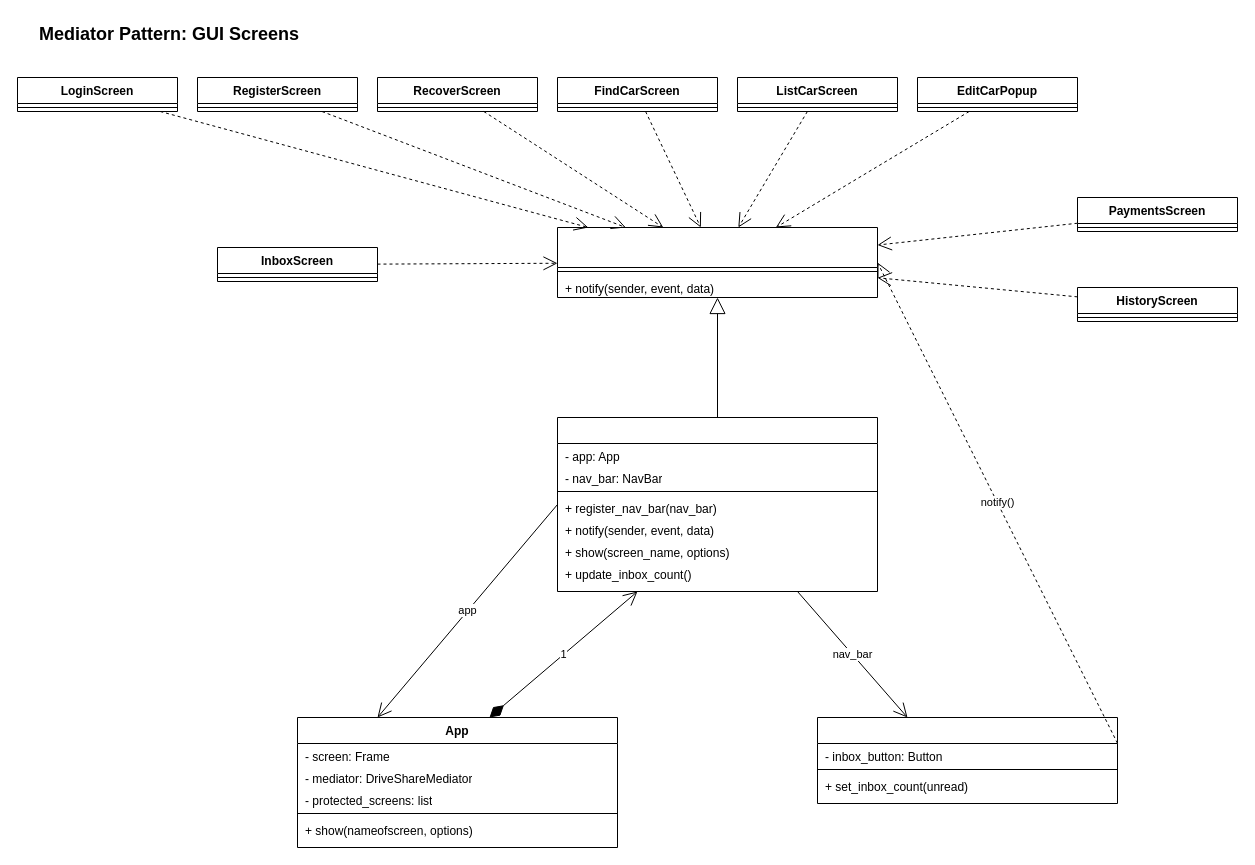
Some shapes in this 1255 by 865 pixel diagram are drawn without their labels. The shapes that lost their labels are listed below. From the top down, each one's box as (x1, y1, x2, y2) in pixels, then its label:
(556, 226, 878, 298): <<abstract>> Mediator
(556, 416, 878, 592): DriveShareMediator
(816, 716, 1118, 804): NavBar
